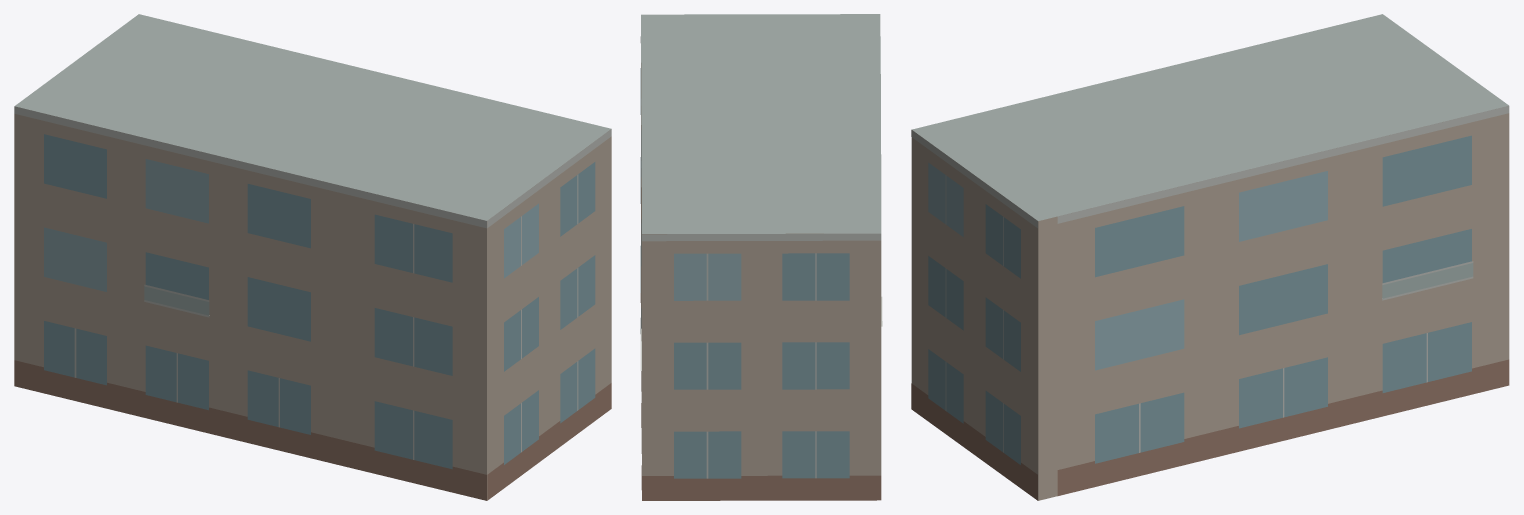
The model's file is survey-upis-32705849.glb.
3 renders of one model, left to right at view 1: azimuth 30°, elevation 25°; view 2: azimuth 150°, elevation 25°; view 3: azimuth 270°, elevation 25°, orthographic. The views are drawn at different scales.
Parts seen in each view (by area): view 1: survey-upis-32705849.tmp; view 2: survey-upis-32705849.tmp; view 3: survey-upis-32705849.tmp.
Boxes of the visible parts, x1,y1,x2,y2 form: survey-upis-32705849.tmp: [14, 14, 611, 500]; survey-upis-32705849.tmp: [640, 14, 882, 500]; survey-upis-32705849.tmp: [911, 14, 1509, 500].
Bounding box in the file's own units: 14.54 × 9.15 × 17.73.
